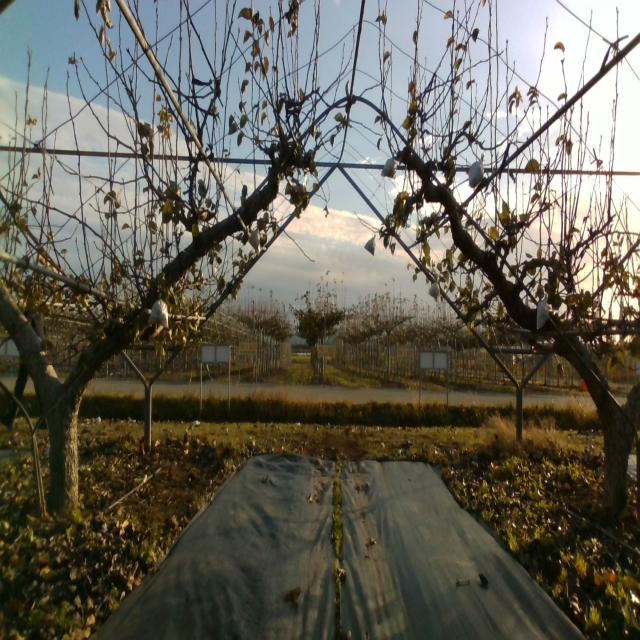pearbags: (148, 292, 170, 328), (468, 153, 485, 188), (536, 295, 550, 329), (247, 227, 263, 254), (381, 157, 398, 178), (365, 233, 376, 256), (428, 280, 440, 301)
